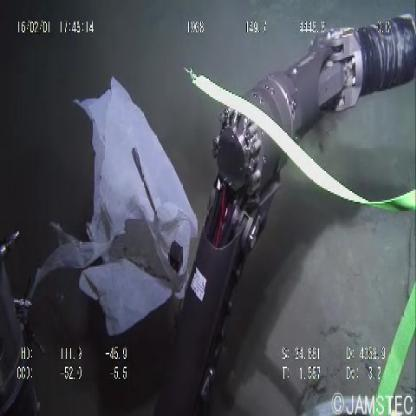Rov: (165, 8, 415, 413)
Rác: (69, 77, 203, 342)
